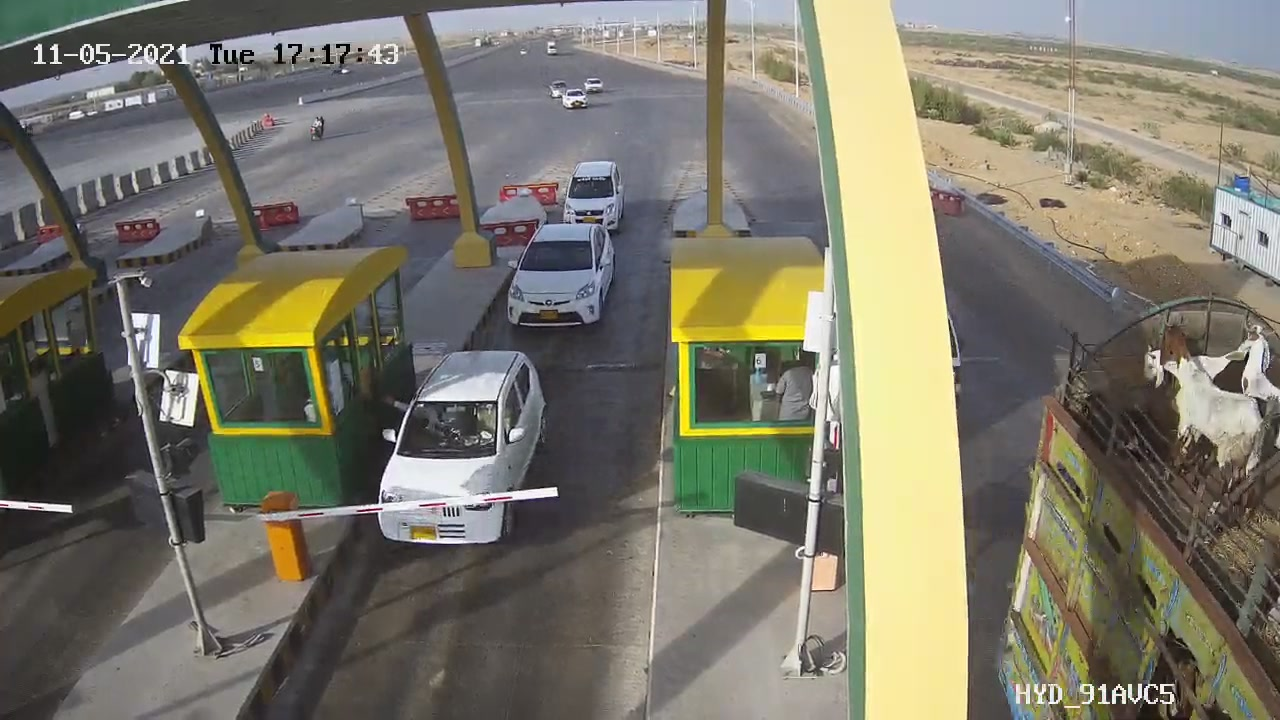F1: (364, 334, 565, 569), (495, 213, 635, 342)
